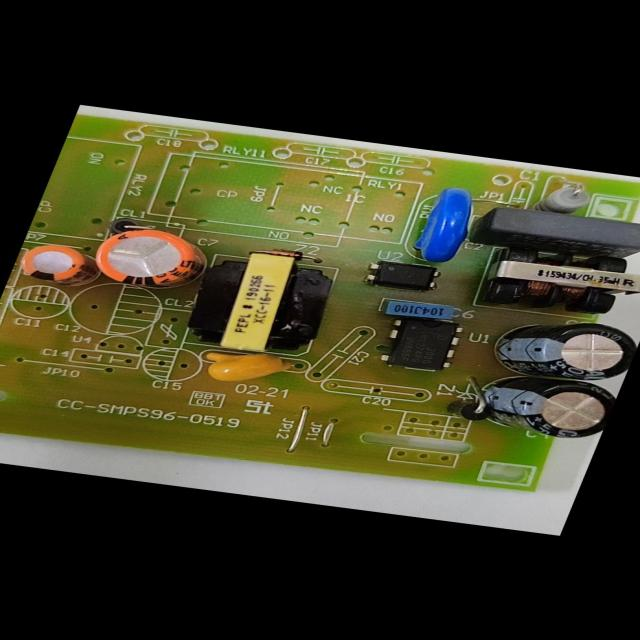Cap1: (82, 220, 224, 297)
Cap2: (9, 237, 97, 287)
Cap3: (469, 307, 639, 389)
Cap4: (445, 367, 620, 446)
MOSFET: (370, 312, 472, 380)
Mov: (392, 180, 491, 267)
Resistor: (536, 181, 595, 214)
Transformer: (174, 240, 350, 360), (466, 236, 640, 326)
